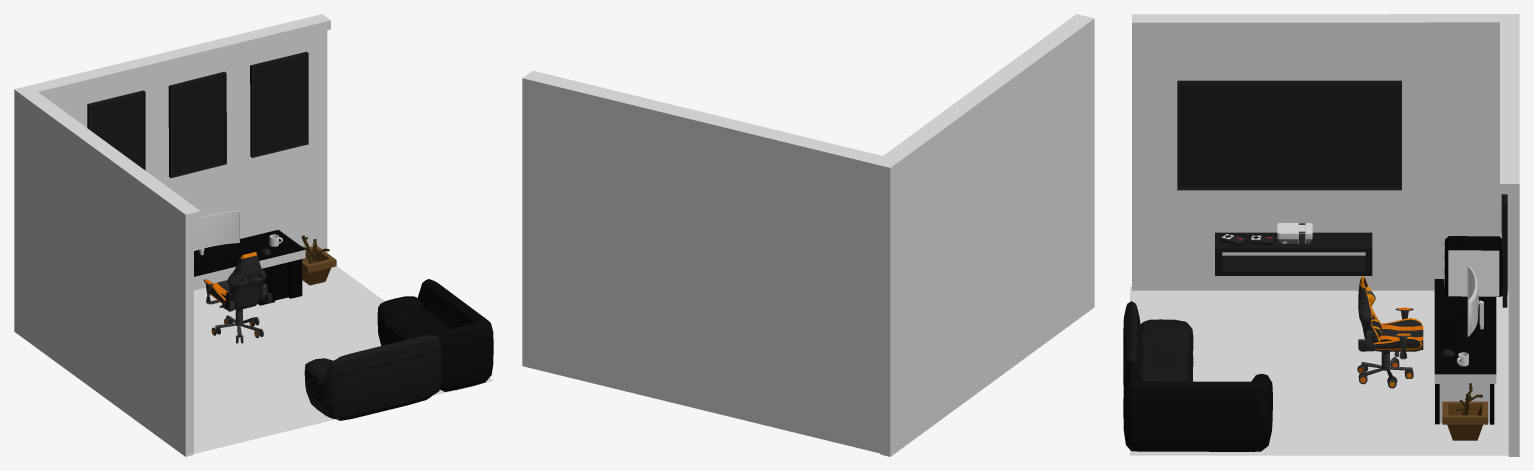
The model's file is fbx_princ_Collection.fbx.
The picture shows the model from 3 angles, left to right: view 1: azimuth 30°, elevation 25°; view 2: azimuth 150°, elevation 25°; view 3: azimuth 270°, elevation 25°; orthographic projection. The views are drawn at different scales.
Visible parts, largest first — view 1: Cube.001, Cube, Plane, Cube.002, Cube.003, Cube.013, Cube.011, Cube.005, Cube.010, Cube.012, Cube.008, Cube.014; view 2: Cube, Cube.001; view 3: Cube.001, Plane, Cube.007, Cube.003, Cube, Cube.005, Cube.009, Cube.002, Cube.012, Circle.002, Cube.014, Cube.008 (+3 smaller).
Boxes of the visible parts, box(x1,y1,x2,y2) form: Cube.001: box(14, 90, 200, 456); Cube: box(14, 14, 330, 290); Plane: box(187, 266, 493, 455); Cube.002: box(304, 335, 441, 420); Cube.003: box(377, 279, 493, 391); Cube.013: box(250, 51, 308, 157); Cube.011: box(168, 71, 226, 178); Cube.005: box(194, 229, 305, 305); Cube.010: box(87, 90, 145, 170); Cube.012: box(203, 252, 272, 343); Cube.008: box(194, 211, 239, 255); Cube.014: box(302, 246, 336, 285); Cube: box(522, 70, 900, 455); Cube.001: box(880, 14, 1094, 456); Cube.001: box(1132, 14, 1508, 290); Plane: box(1130, 286, 1508, 455); Cube.007: box(1177, 80, 1401, 190); Cube.003: box(1123, 360, 1272, 451); Cube: box(1500, 14, 1519, 456); Cube.005: box(1434, 279, 1496, 424); Cube.009: box(1215, 232, 1372, 275); Cube.002: box(1123, 301, 1193, 384); Cube.012: box(1357, 276, 1423, 388); Circle.002: box(1444, 236, 1502, 296); Cube.014: box(1442, 401, 1487, 440); Cube.008: box(1467, 266, 1483, 336).
Bounding box in the file's own units: 1475 × 1121 × 1450.
